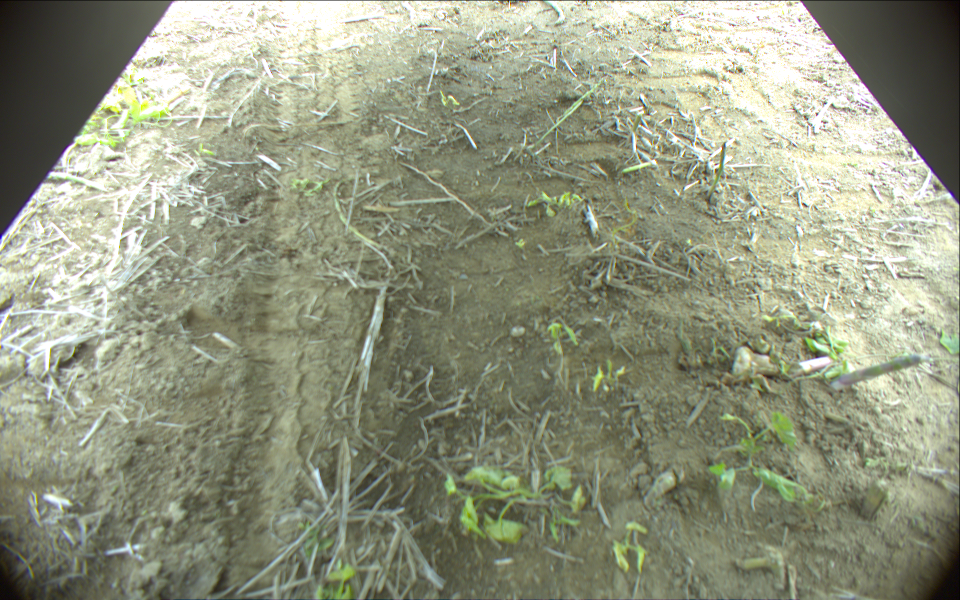aspa: (830, 350, 926, 391), (557, 74, 607, 123), (539, 96, 586, 146), (705, 140, 726, 203), (542, 1, 567, 27), (621, 160, 657, 174), (630, 109, 643, 142)
